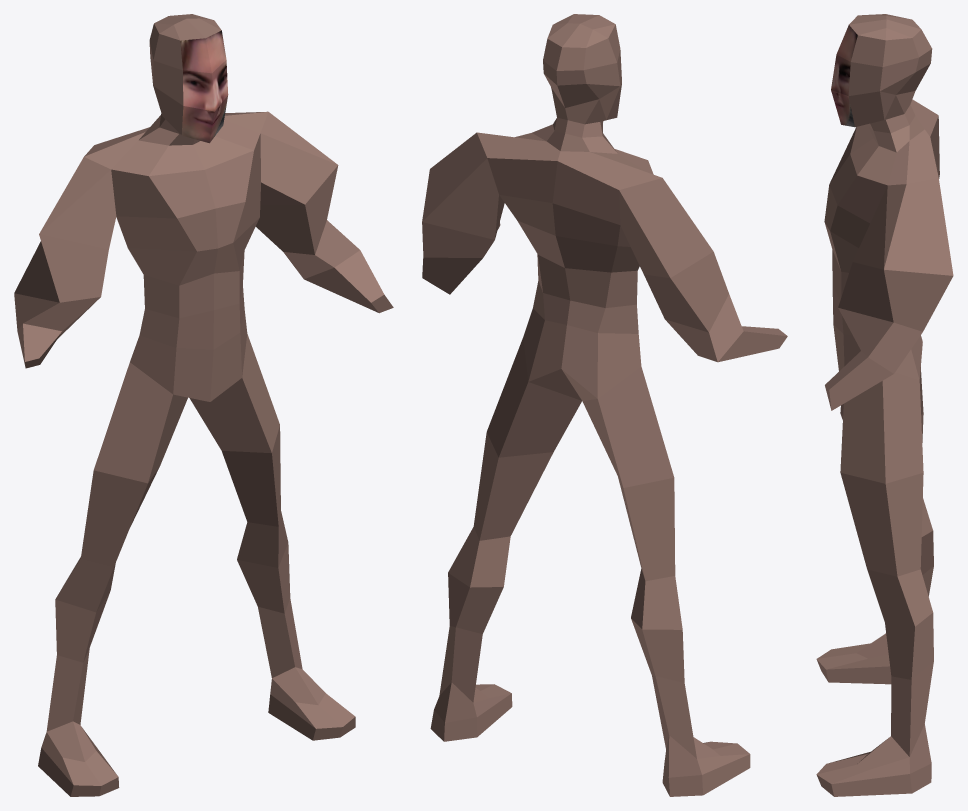
File: Valtteri.fbx
The picture shows the model from 3 angles, left to right: view 1: azimuth 30°, elevation 25°; view 2: azimuth 150°, elevation 25°; view 3: azimuth 270°, elevation 25°; orthographic projection. The views are drawn at different scales.
Parts seen in each view (by area): view 1: BASE_Low Poly Man; view 2: BASE_Low Poly Man; view 3: BASE_Low Poly Man.
Part boxes in pixels (<box>): BASE_Low Poly Man: <box>14,14,393,796</box>; BASE_Low Poly Man: <box>422,14,787,796</box>; BASE_Low Poly Man: <box>816,14,953,796</box>.
Bounding box in the file's own units: 302 × 575 × 101.
